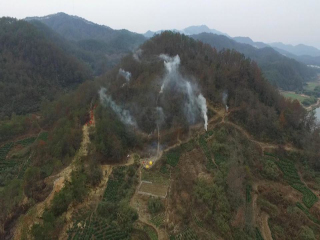smoke: (97, 48, 210, 153)
